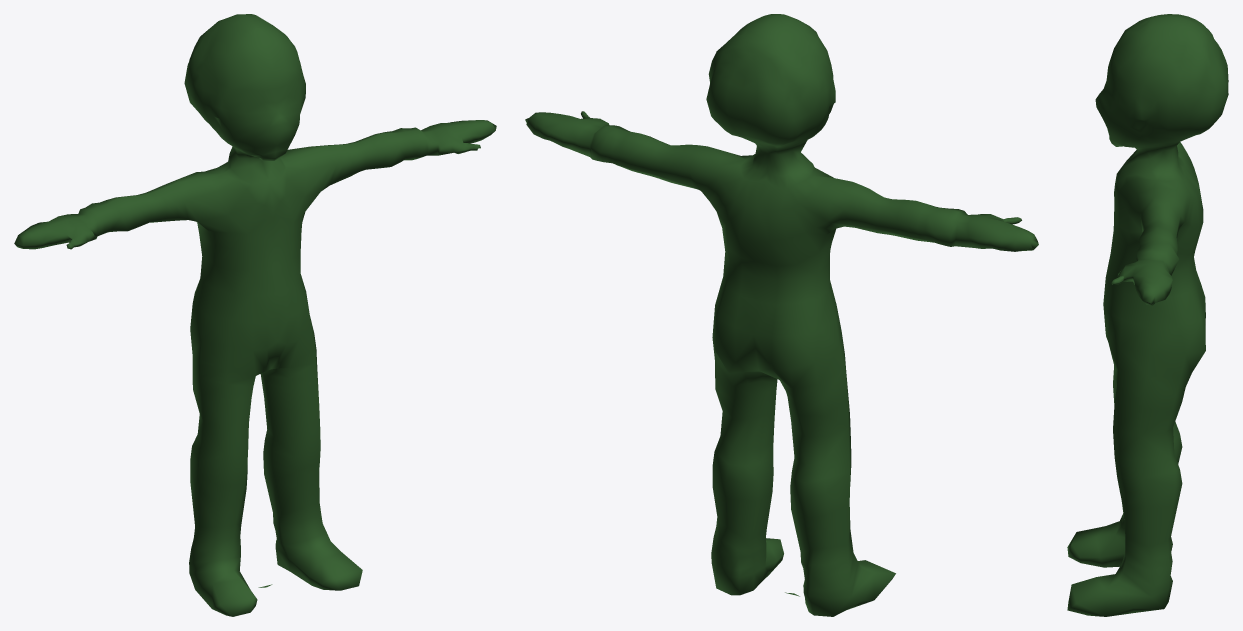
File: waiter.fbx
3 views of the same model, side by side, from view 1: azimuth 30°, elevation 25°; view 2: azimuth 150°, elevation 25°; view 3: azimuth 270°, elevation 25° (orthographic). The views are drawn at different scales.
Parts seen in each view (by area): view 1: wainter; view 2: wainter; view 3: wainter.
Part boxes in pixels (left/top/right/bottom): wainter: left=14, top=14, right=496, bottom=616; wainter: left=525, top=14, right=1038, bottom=616; wainter: left=1067, top=14, right=1228, bottom=616.
Bounding box in the file's own units: 1.38 × 1.52 × 0.3901.
